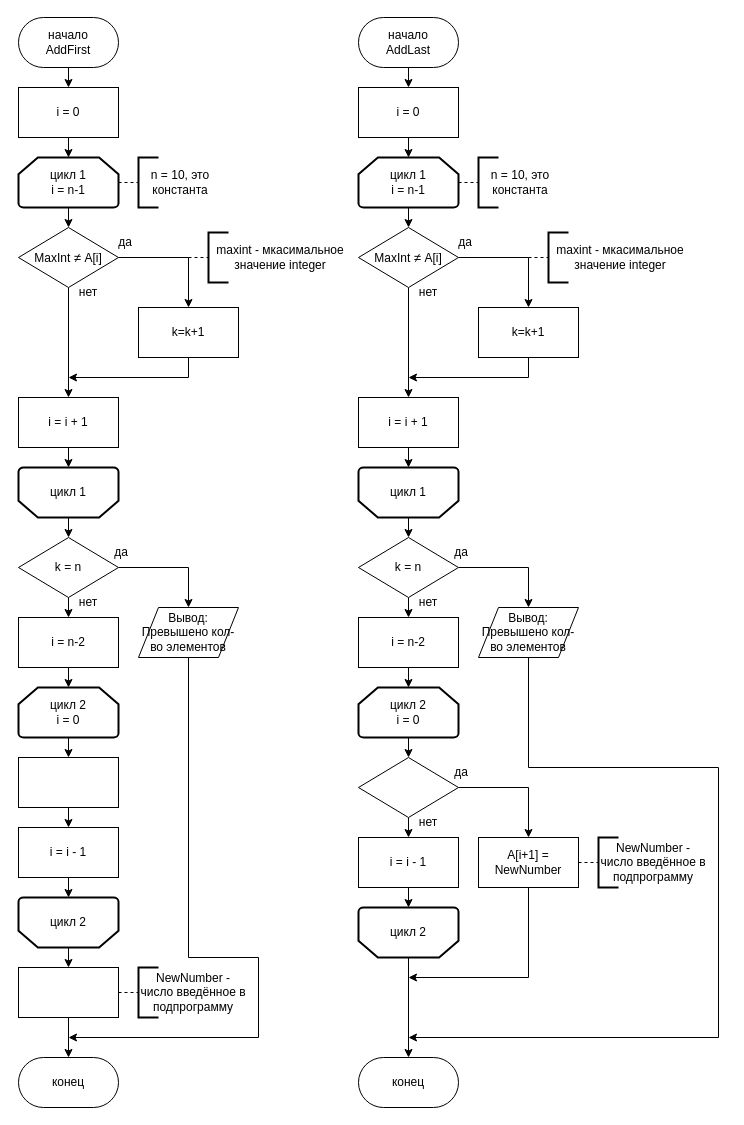
Image size: 744x1125. Some labels were removed from this diagram. Here are the shapes that lost their labels. From the top down, the centre of each, then its label:
[68,782]: A[i+1] = A[i]
[408,787]: A[i] ≠ MaxInt
[68,992]: A[0] = NewNumber
